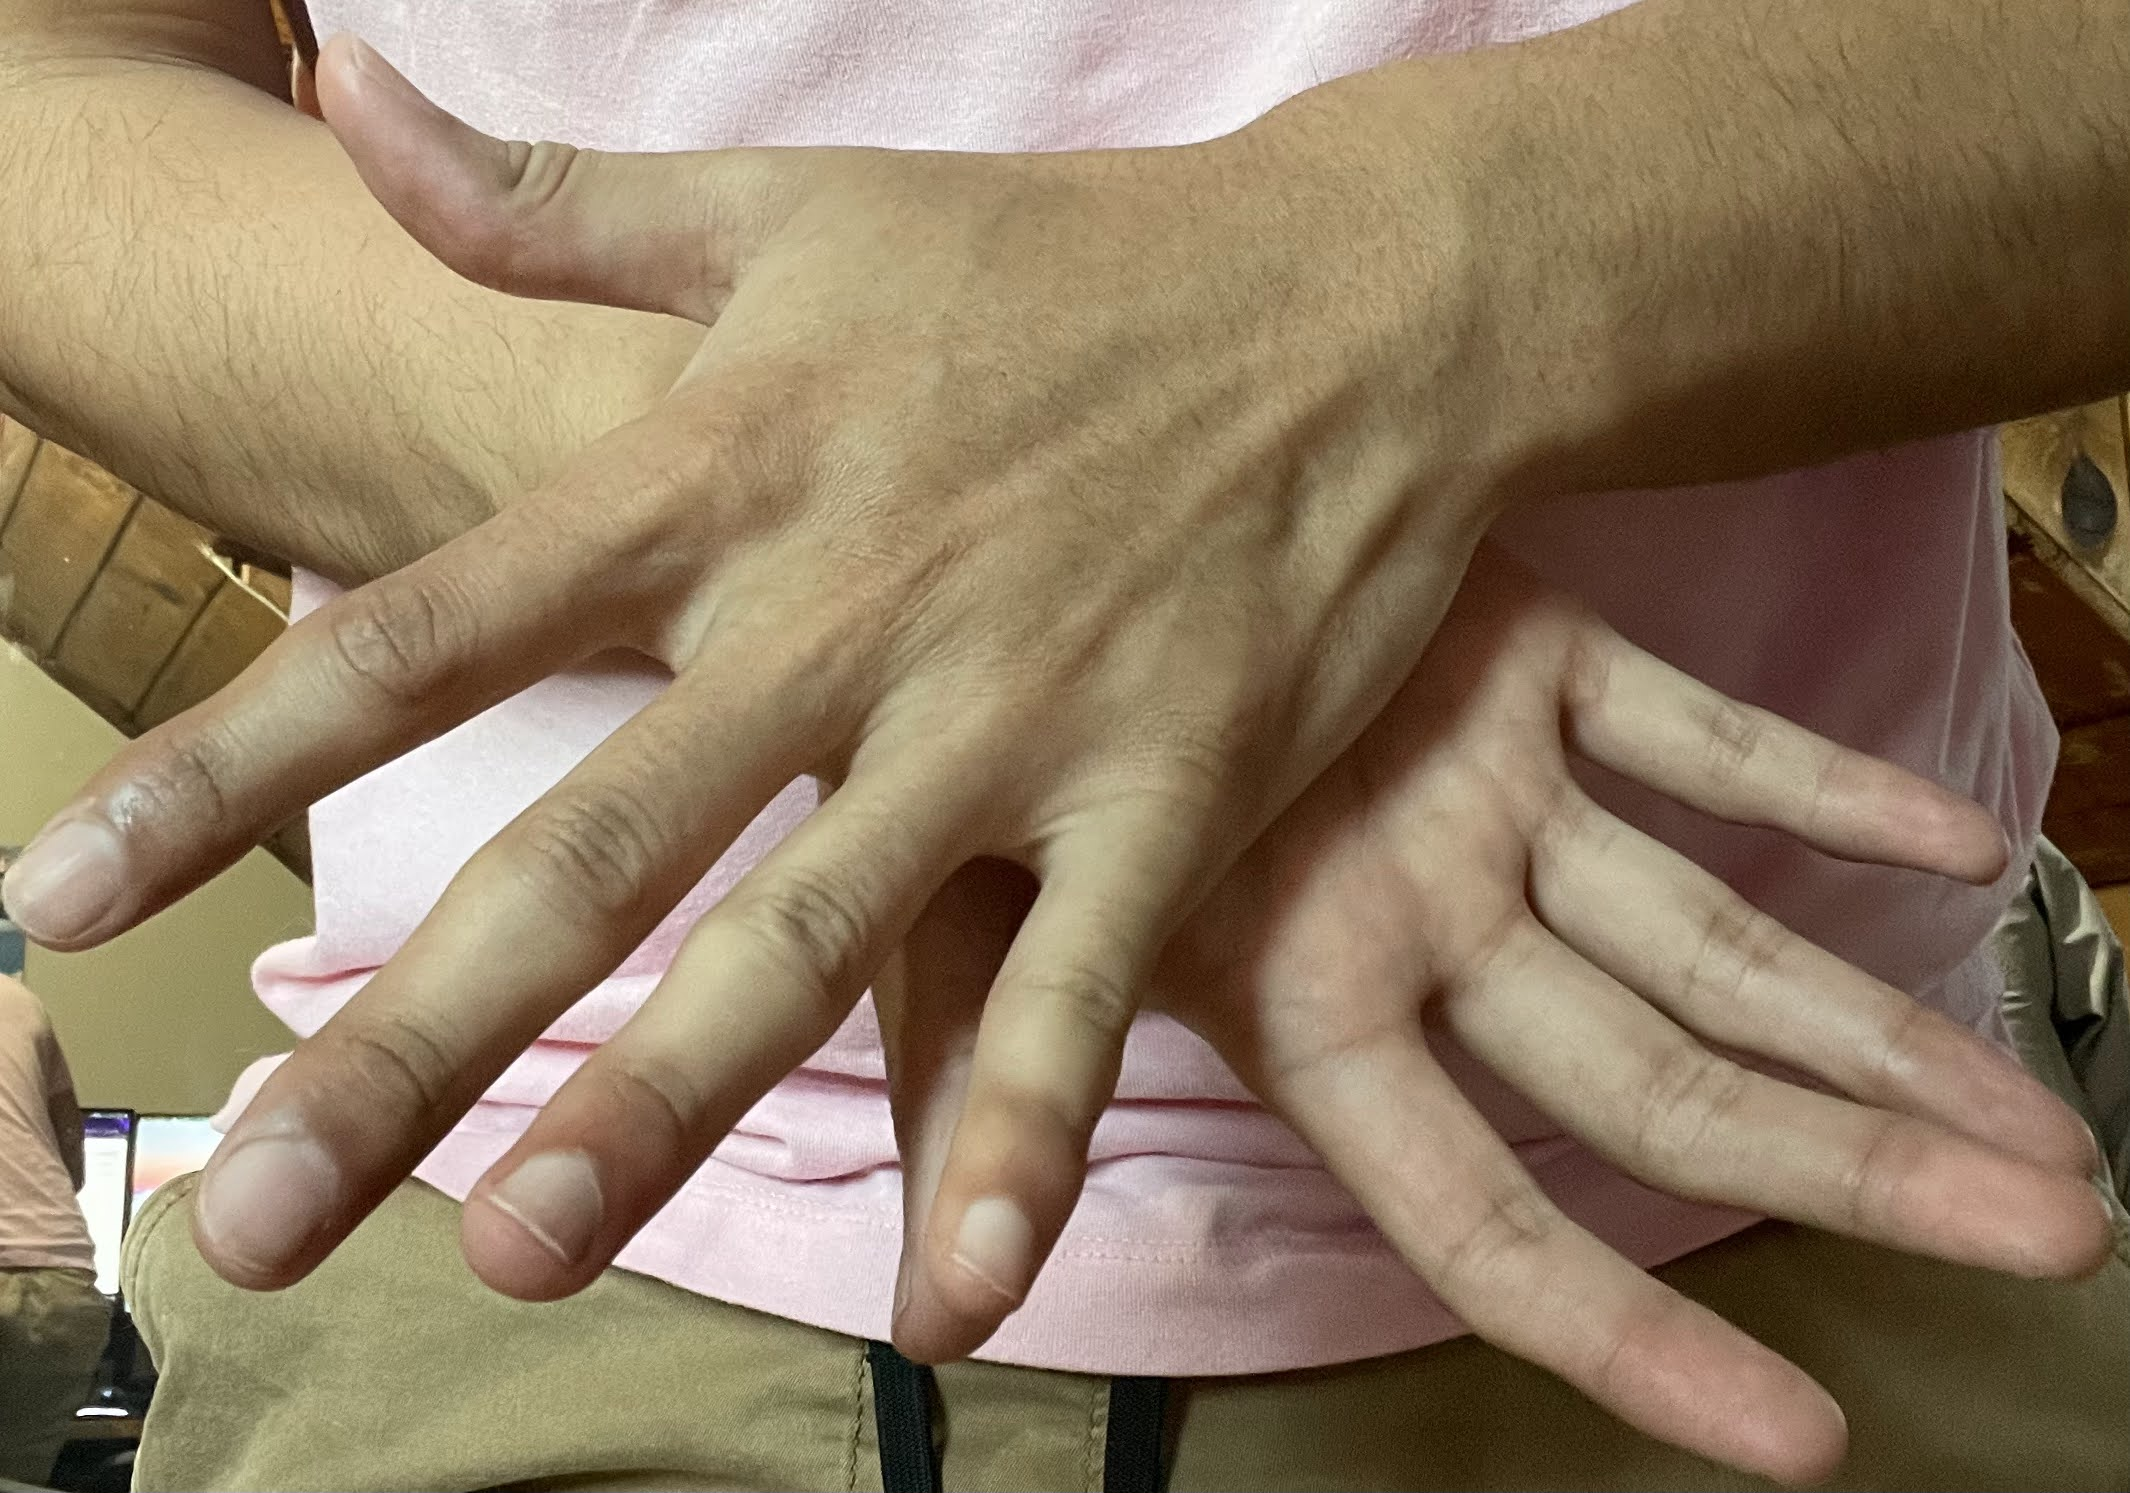cheese: (2, 24, 2120, 1487)
